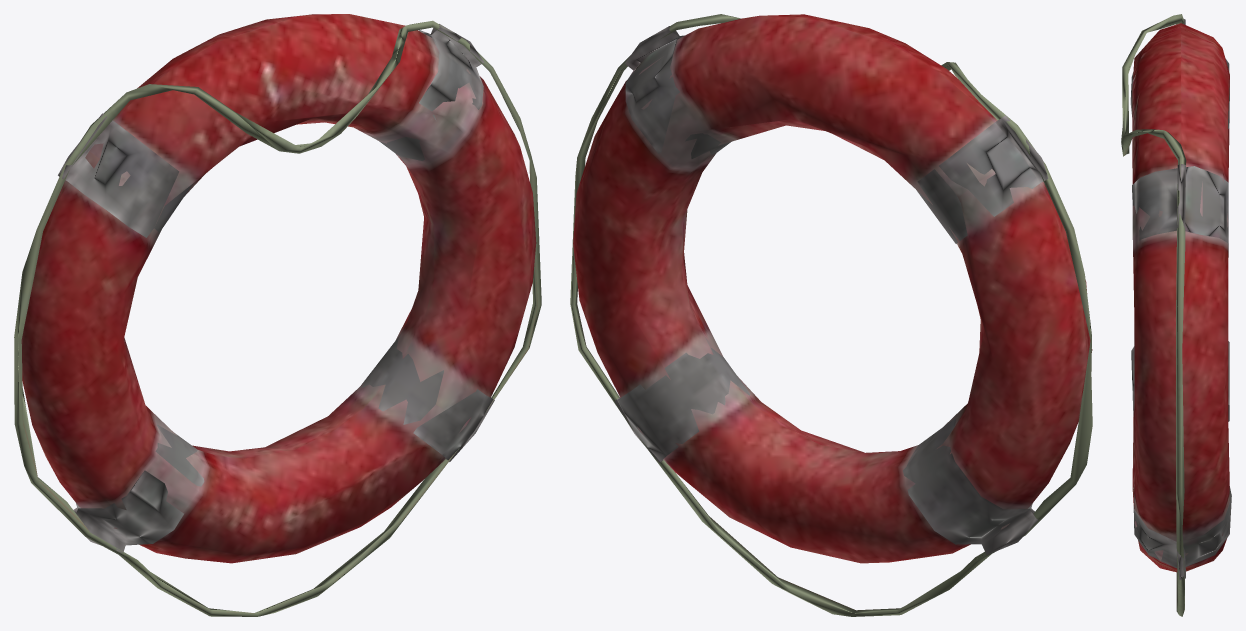
File: lifebuoy.glb
3 renders of one model, left to right at view 1: azimuth 30°, elevation 25°; view 2: azimuth 150°, elevation 25°; view 3: azimuth 270°, elevation 25°, orthographic. The views are drawn at different scales.
Parts seen in each view (by area): view 1: lifebuoy; view 2: lifebuoy; view 3: lifebuoy.
Boxes of the visible parts, x1,y1,x2,y2 form: lifebuoy: (14, 14, 541, 616); lifebuoy: (570, 14, 1092, 616); lifebuoy: (1121, 14, 1231, 616).
Bounding box in the file's own units: 0.7807 × 0.8396 × 0.1521.
1 material, 1 textured.
